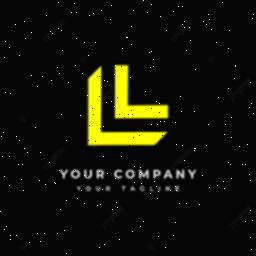l: (111, 61, 177, 127)
